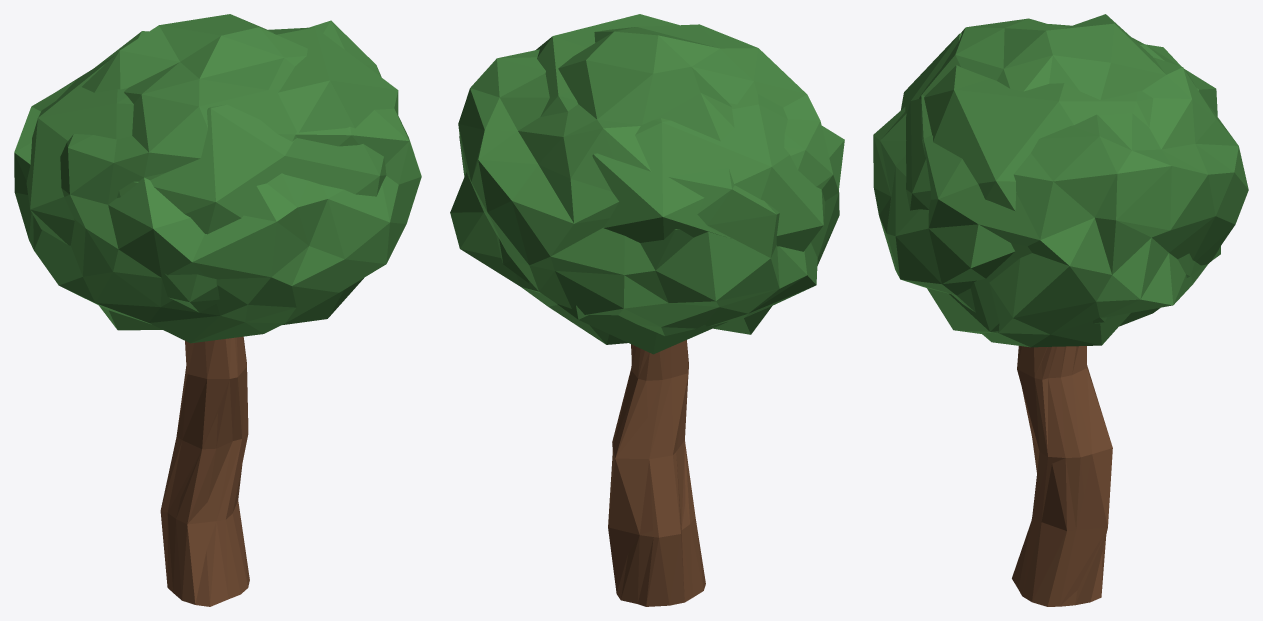
The model's file is HeyaTree.fbx.
The picture shows the model from 3 angles, left to right: view 1: azimuth 30°, elevation 25°; view 2: azimuth 150°, elevation 25°; view 3: azimuth 270°, elevation 25°; orthographic projection. The views are drawn at different scales.
Visible parts, largest first — view 1: GeneratedLeaves, LOD_Test, GeneratedBranch, Overrided_LOD; view 2: GeneratedLeaves, LOD_Test, GeneratedBranch, Overrided_LOD; view 3: GeneratedLeaves, LOD_Test, GeneratedBranch, Overrided_LOD.
Boxes of the visible parts, bbox=[...] form: GeneratedLeaves: bbox=[14, 14, 421, 343]; LOD_Test: bbox=[26, 27, 398, 324]; GeneratedBranch: bbox=[160, 337, 249, 606]; Overrided_LOD: bbox=[167, 336, 246, 603]; GeneratedLeaves: bbox=[450, 24, 844, 344]; LOD_Test: bbox=[496, 14, 825, 354]; GeneratedBranch: bbox=[612, 340, 705, 606]; Overrided_LOD: bbox=[608, 340, 688, 593]; GeneratedLeaves: bbox=[873, 14, 1248, 347]; LOD_Test: bbox=[900, 24, 1220, 333]; GeneratedBranch: bbox=[1012, 346, 1109, 606]; Overrided_LOD: bbox=[1034, 346, 1112, 605].
Size of the model in its own units: 786 by 1127 by 683.
